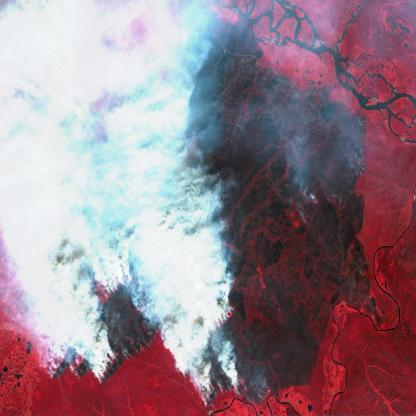fire: (48, 108, 168, 392), (174, 300, 244, 412)
